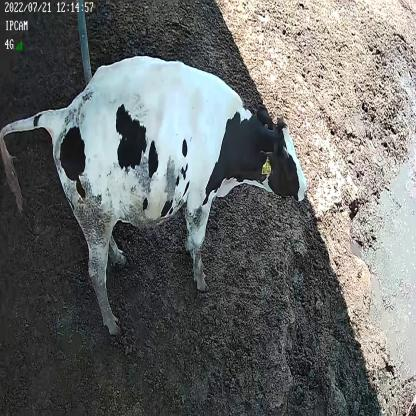cow: (0, 53, 307, 333)
